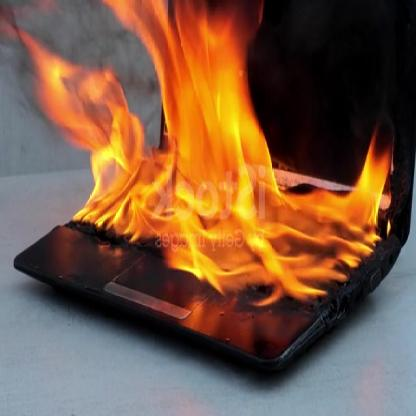fire: (12, 3, 388, 305)
smoke: (8, 1, 147, 88)
